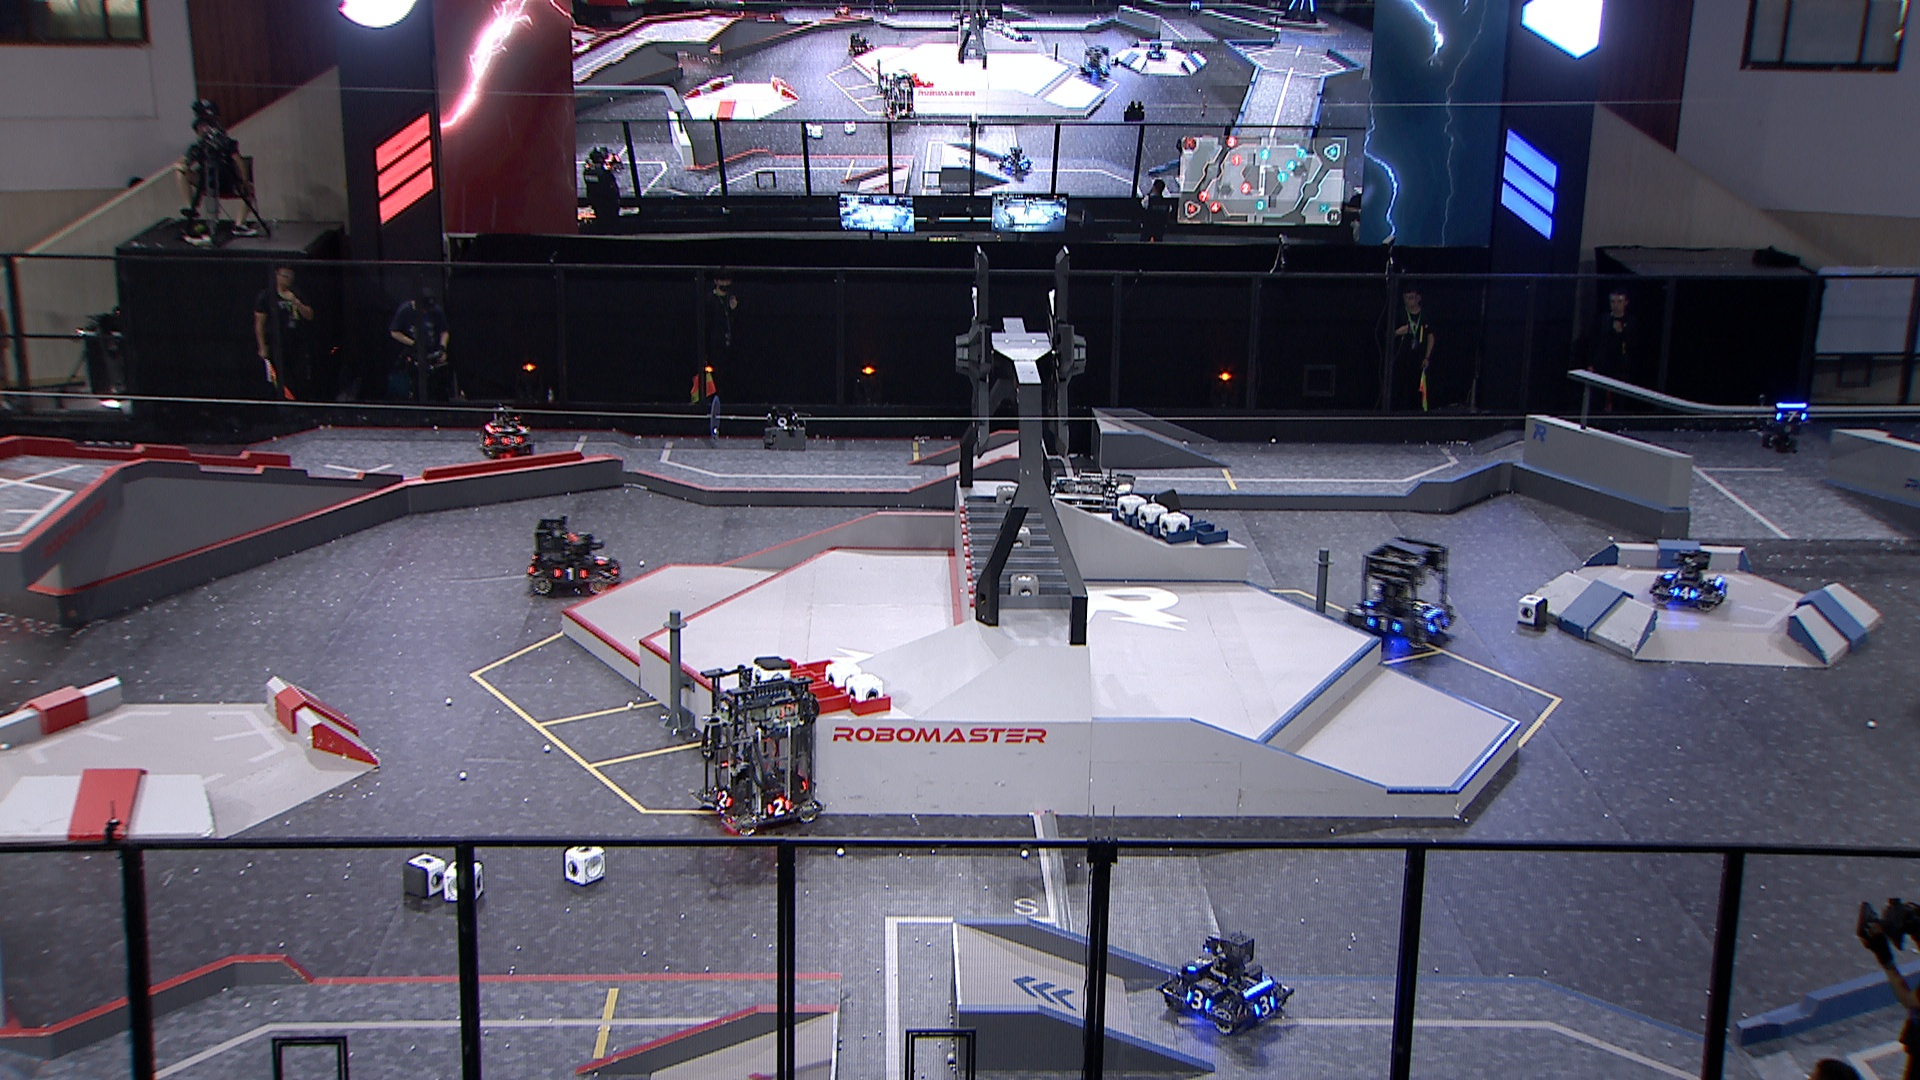armor: (1367, 616, 1399, 636), (1671, 585, 1698, 603), (1182, 992, 1211, 1007), (713, 787, 732, 811), (765, 796, 789, 815), (556, 566, 585, 580), (1254, 996, 1275, 1015), (1774, 407, 1808, 419), (1429, 616, 1449, 636), (1189, 955, 1215, 969), (1664, 564, 1677, 583), (502, 434, 520, 447), (479, 433, 493, 444), (595, 553, 611, 562)
car: (688, 659, 823, 837), (1156, 924, 1291, 1039), (1342, 531, 1455, 650), (1044, 465, 1139, 560), (522, 512, 626, 597), (1650, 547, 1731, 612), (471, 400, 533, 462)
ignore: (880, 71, 918, 123), (1073, 41, 1112, 80), (579, 146, 624, 178), (997, 146, 1031, 178), (844, 30, 870, 57), (1143, 40, 1167, 62)
watcher: (1754, 386, 1812, 452)
